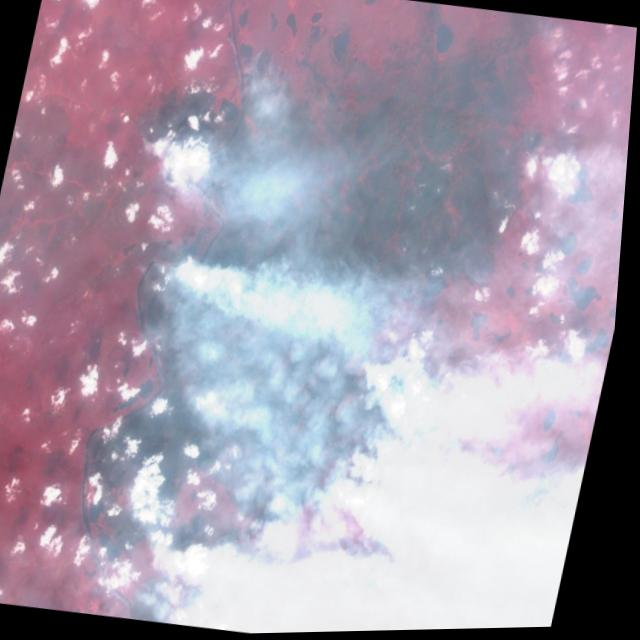fire: (230, 47, 292, 123), (155, 235, 207, 304), (143, 124, 185, 170)
